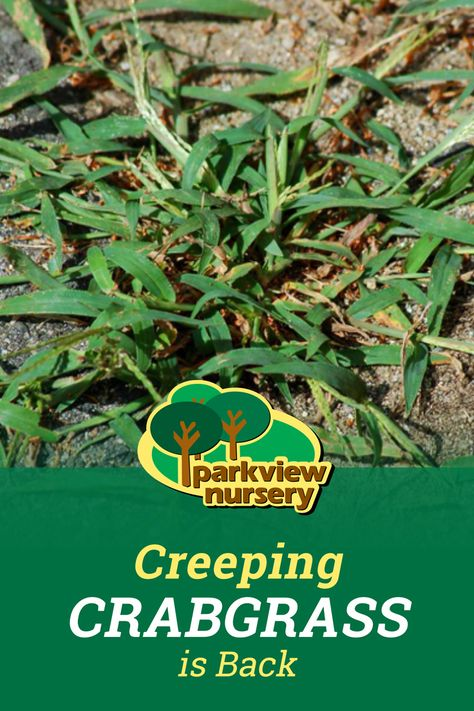crabgrass: (42, 95, 447, 415)
